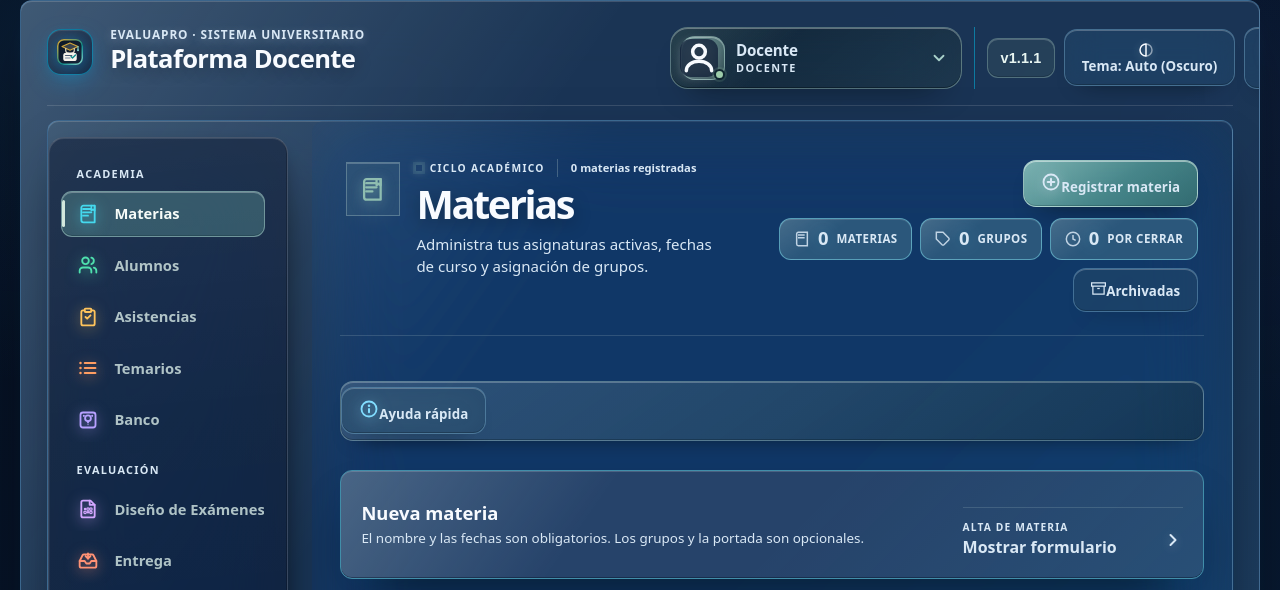
Scenario: AppDocente secciones (refactor) › muestra tabs principales con token
This screenshot has width=1280, height=590.
expect the button "Materias" is shown: met, box [61,190,265,236]
What coordinates should you click on to do the following:
click the button "Diseño de Exámenes"
I would click on:
 (163, 509)
Its box is [61,486,265,532].
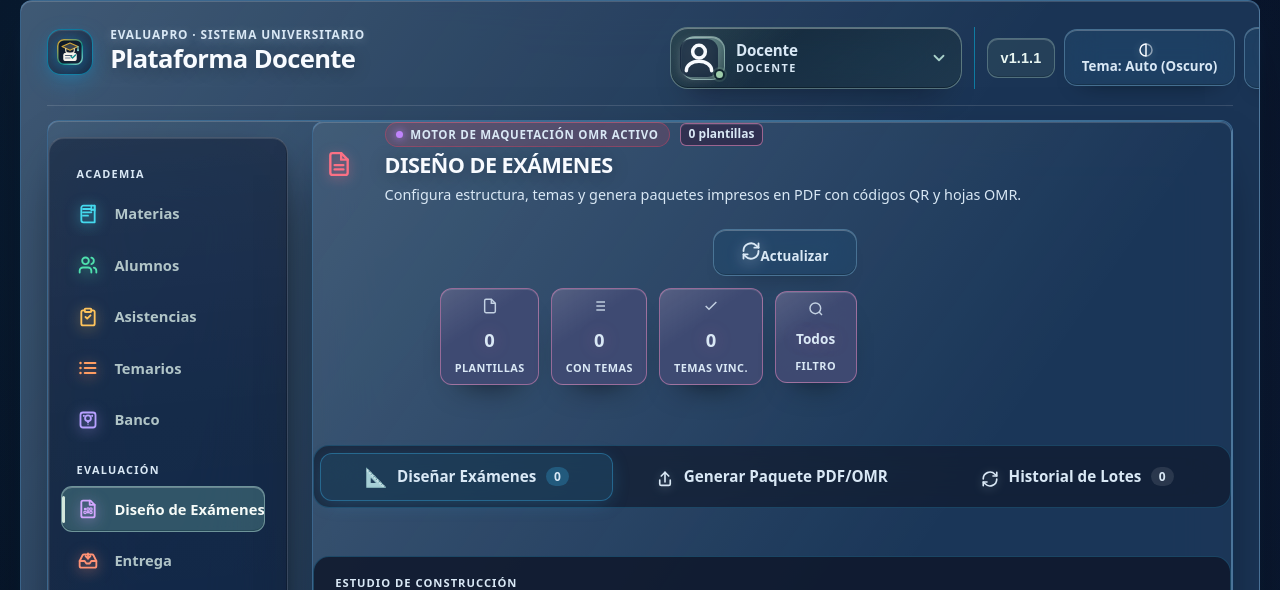
expect the heading "Diseño de Exámenes" is shown: met, box [385,150,613,179]
